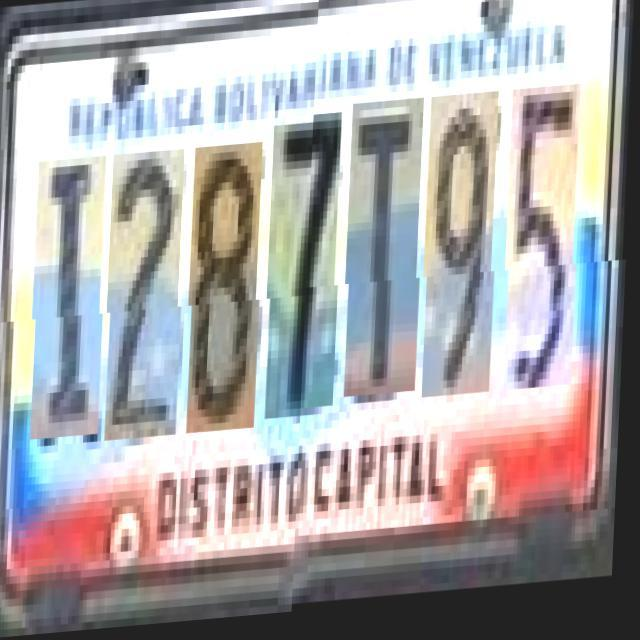2: (109, 152, 190, 443)
5: (508, 101, 586, 408)
7: (268, 126, 346, 424)
8: (190, 146, 268, 437)
9: (426, 108, 504, 414)
I: (34, 157, 112, 440)
T: (348, 113, 428, 411)
